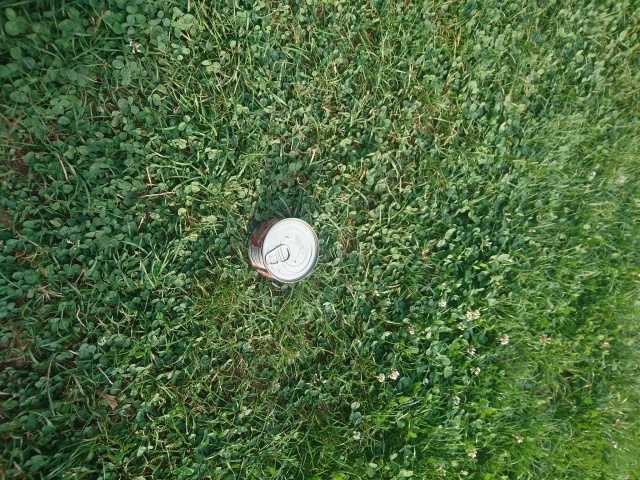Podravka Luncheon Meat 150g: (245, 215, 322, 286), (273, 268, 275, 269)
